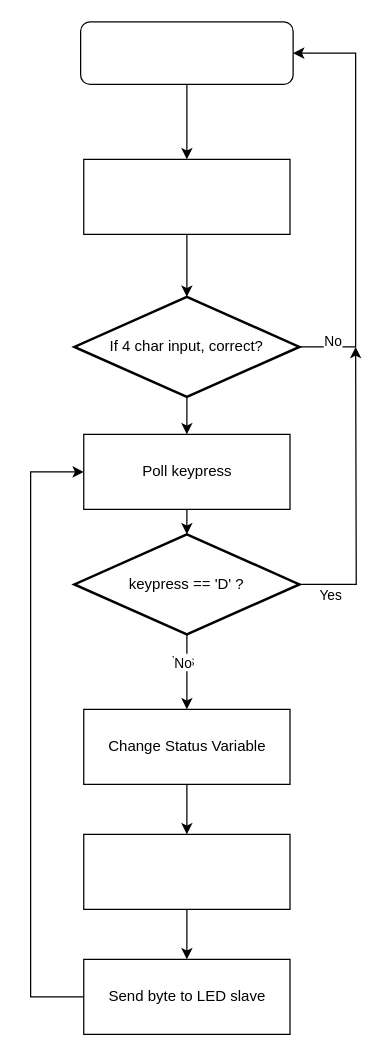
This 389x1056 diagram has some shape labels left out. The centre of each missing label's shape, as x and y in pixels:
Main: (x=186, y=52)
Poll for keypress: (x=186, y=196)
Send 2 bytes to LCD slave: (x=186, y=871)
